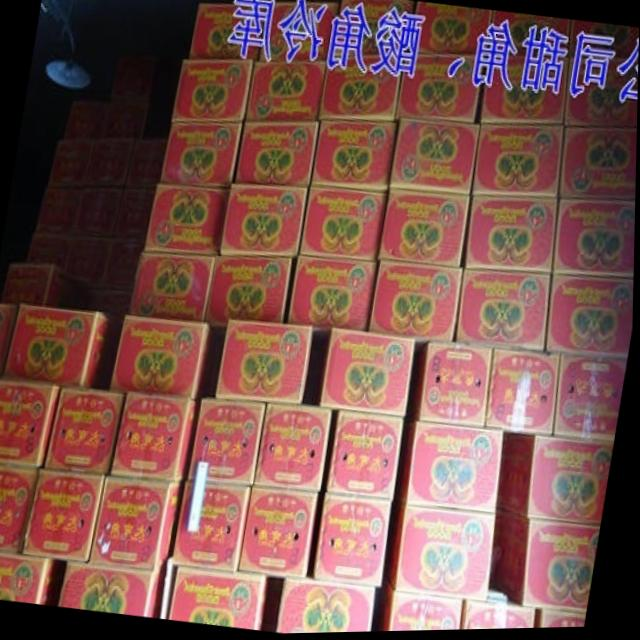box: (492, 515, 602, 614), (499, 437, 616, 528), (389, 508, 498, 598), (398, 424, 505, 515), (4, 305, 119, 388), (313, 333, 416, 418), (112, 316, 217, 398), (92, 479, 186, 568), (216, 320, 313, 406), (24, 470, 106, 562), (114, 394, 200, 481), (371, 263, 463, 344), (458, 274, 552, 352), (318, 494, 394, 590), (547, 279, 635, 360), (240, 487, 319, 577), (412, 343, 493, 430), (380, 191, 470, 269), (173, 484, 251, 573), (328, 412, 404, 502), (466, 201, 557, 275), (290, 257, 379, 332), (257, 405, 334, 491), (391, 122, 480, 196), (554, 356, 628, 444), (471, 130, 564, 200), (48, 390, 124, 475), (301, 189, 388, 263), (487, 351, 561, 438), (208, 259, 292, 335), (191, 399, 265, 485), (397, 55, 485, 127), (171, 567, 268, 632), (221, 187, 307, 259), (556, 204, 636, 279), (145, 187, 230, 255), (130, 253, 215, 321), (481, 57, 567, 124), (64, 562, 168, 617), (312, 122, 396, 190), (279, 578, 378, 635), (559, 131, 637, 201), (319, 56, 402, 121), (565, 59, 639, 131), (171, 60, 254, 124), (237, 124, 318, 188), (0, 382, 63, 464), (331, 0, 415, 59), (161, 125, 242, 185), (247, 63, 327, 122), (260, 2, 338, 62), (408, 3, 491, 56), (378, 583, 463, 633), (190, 4, 265, 59), (487, 13, 570, 59), (0, 264, 81, 309), (0, 465, 41, 553), (0, 555, 61, 606), (569, 22, 639, 60), (65, 235, 113, 289), (75, 189, 124, 236), (102, 238, 144, 291), (35, 189, 81, 235), (465, 603, 537, 632), (49, 140, 94, 185), (117, 189, 156, 240), (111, 60, 155, 104), (128, 140, 169, 187), (90, 142, 134, 185), (101, 103, 148, 140), (29, 232, 70, 273), (64, 103, 105, 139), (0, 306, 19, 378), (82, 293, 131, 319), (539, 614, 589, 630)
